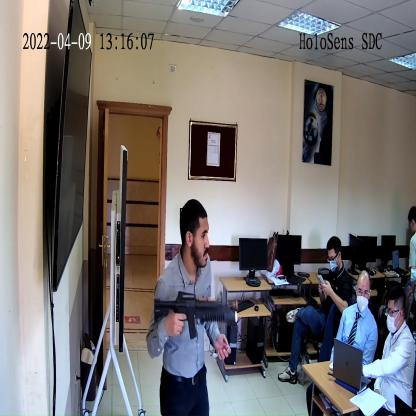handgun: (153, 290, 236, 340)
